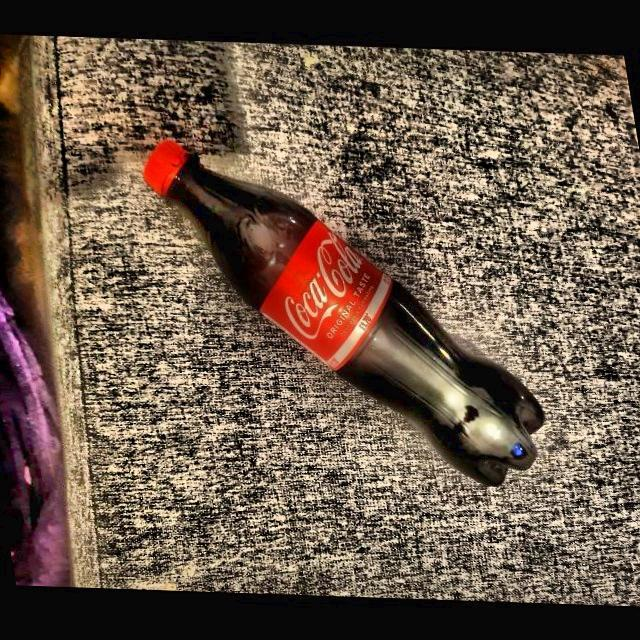coke-bottle: (144, 133, 546, 466)
